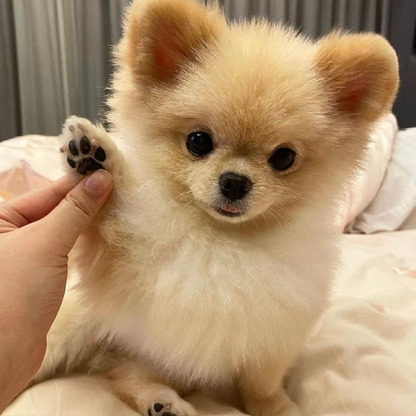Pomeranian: (58, 8, 388, 404)
